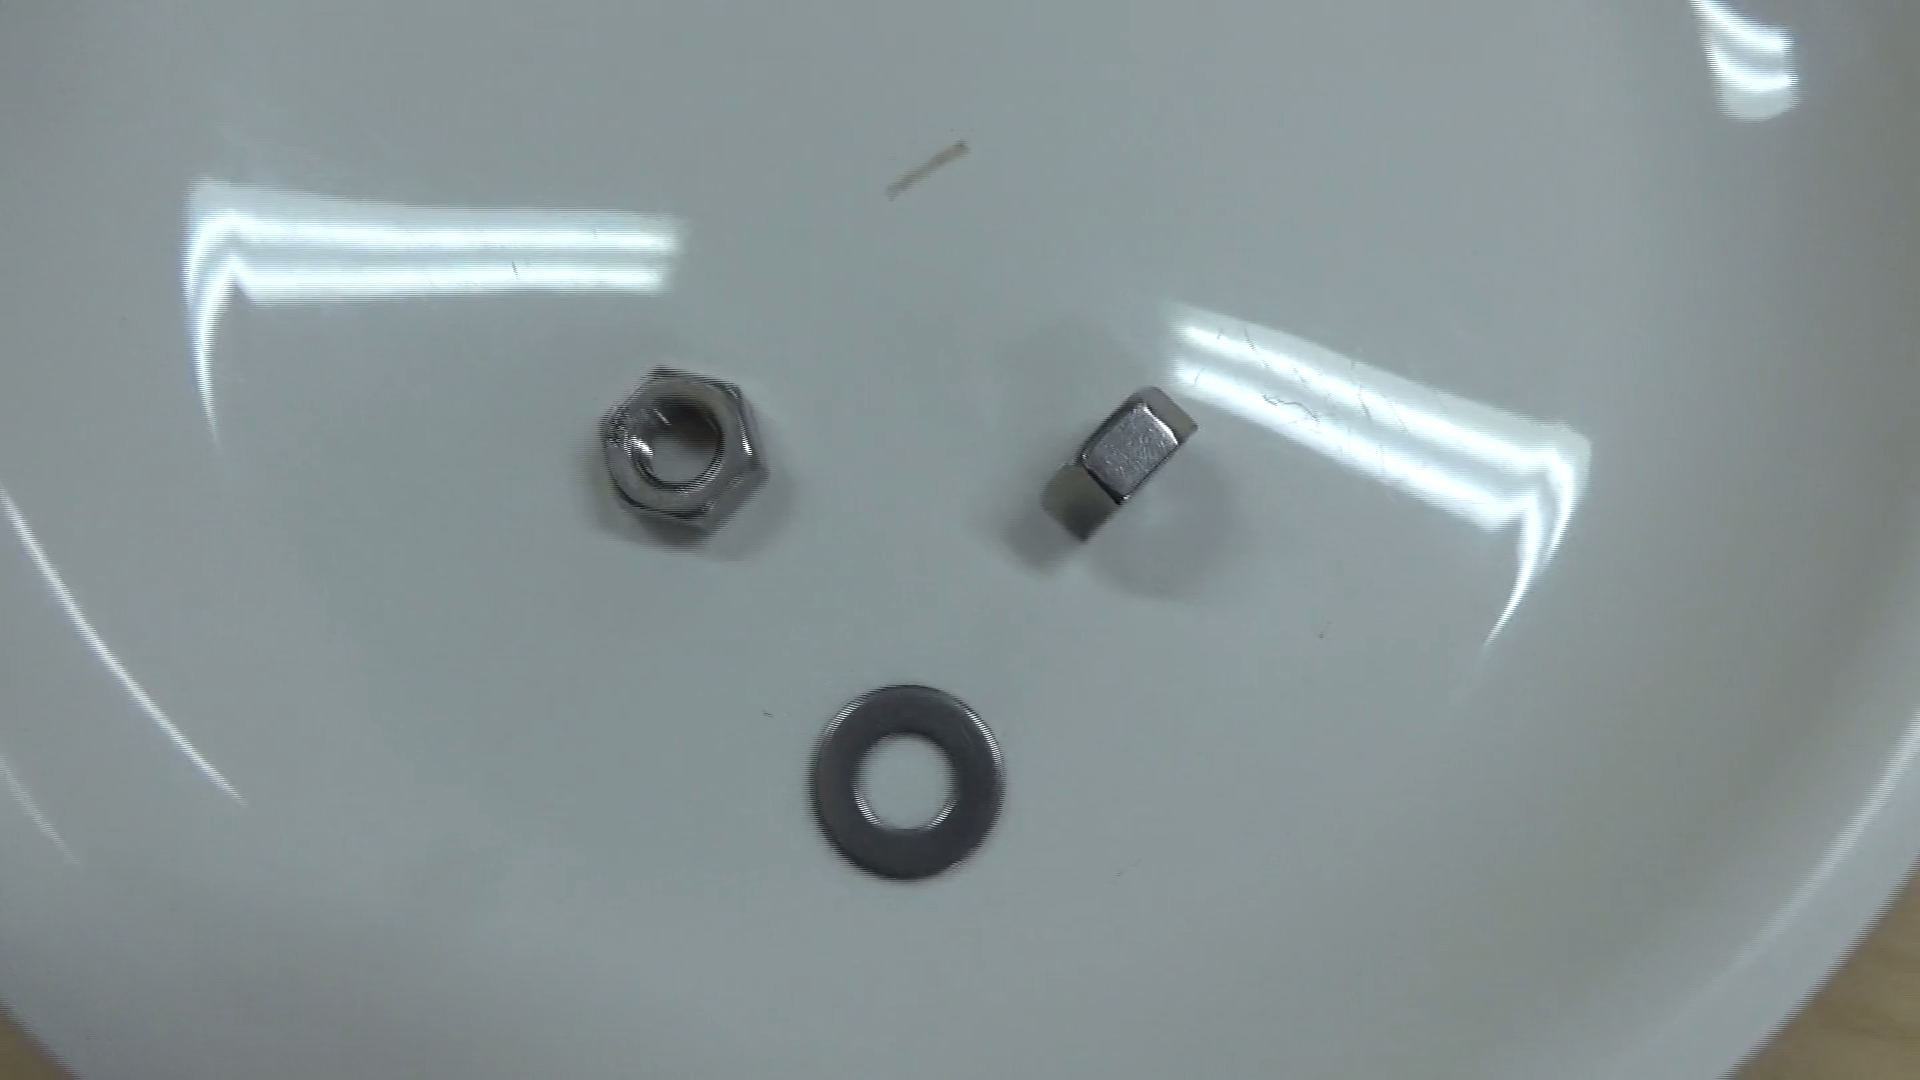nut: (584, 353, 785, 545), (1027, 371, 1209, 558)
washer: (791, 669, 1018, 894)
